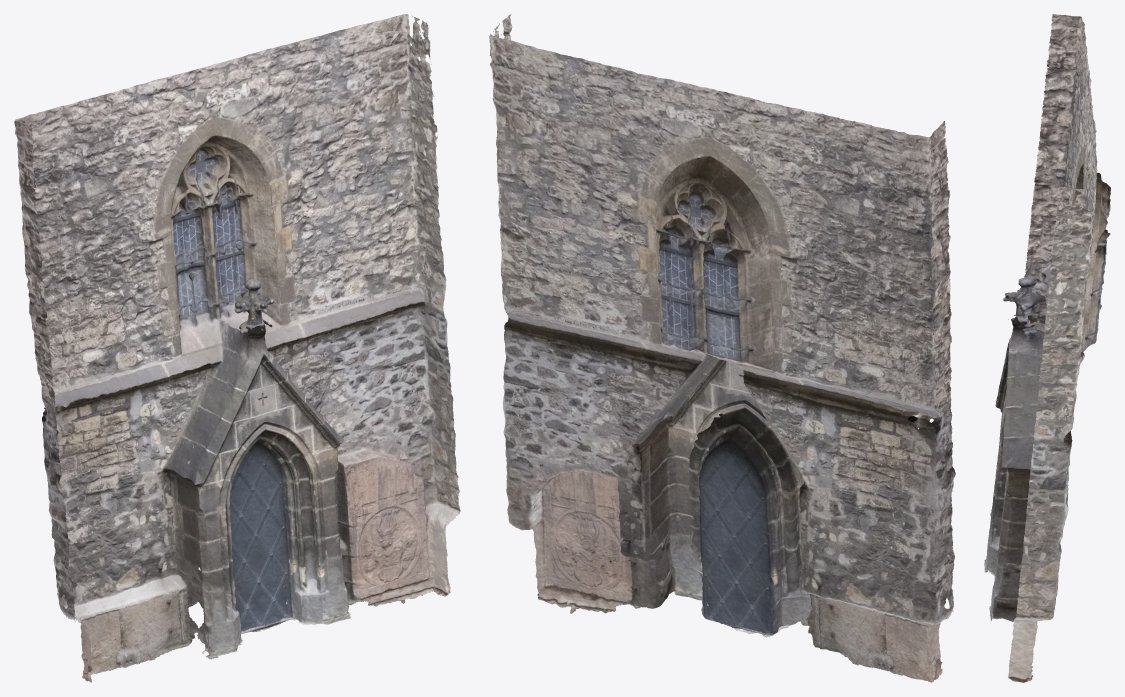
The model's file is small_gothic_portal_sv_jindrich_prague.glb.
The picture shows the model from 3 angles, left to right: view 1: azimuth 30°, elevation 25°; view 2: azimuth 150°, elevation 25°; view 3: azimuth 270°, elevation 25°; orthographic projection. The views are drawn at different scales.
Visible parts, largest first — view 1: Object_2; view 2: Object_2; view 3: Object_2.
Part boxes in pixels (x1,y1,x2,y2): Object_2: (14, 14, 460, 682); Object_2: (489, 14, 955, 682); Object_2: (984, 14, 1110, 682).
Size of the model in its own units: 6.15 by 7.98 by 1.82.
Materials: 1 (1 with a texture image).
